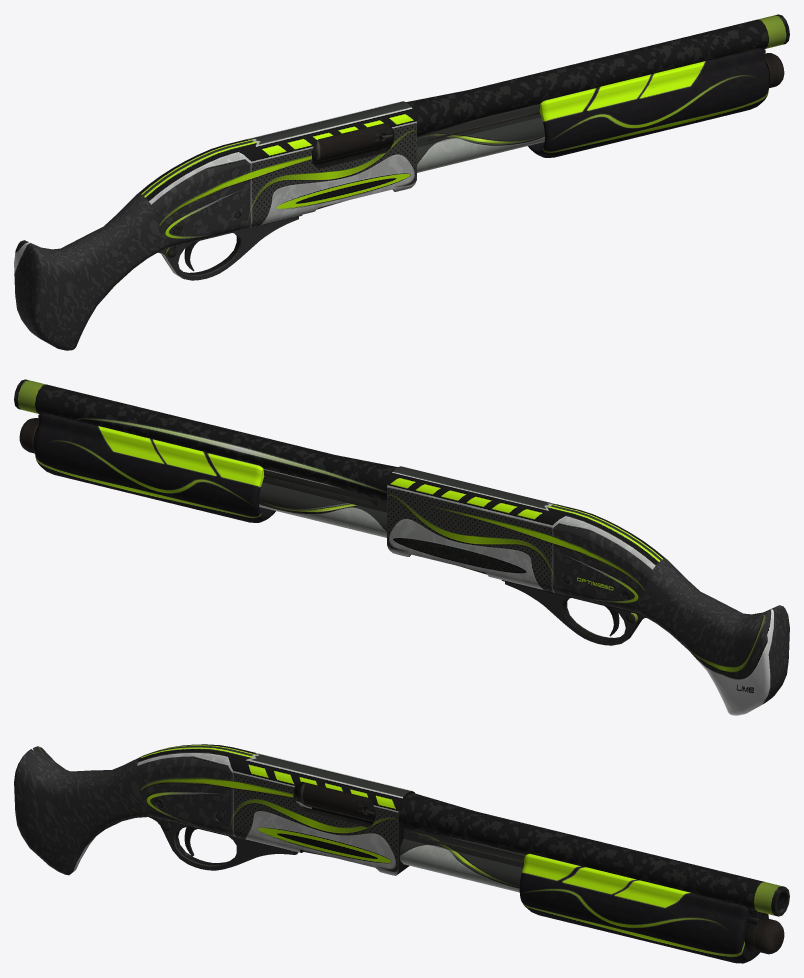
Rendered from w_sawnoffshotgun_lime.glb.
3 renders of one model, top to bottom at view 1: azimuth 30°, elevation 25°; view 2: azimuth 150°, elevation 25°; view 3: azimuth 330°, elevation 25°, orthographic.
Parts seen in each view (by area): view 1: Gun_Root; view 2: Gun_Root; view 3: Gun_Root.
Part boxes in pixels (x1,y1,x2,y2): Gun_Root: (14, 14, 789, 350); Gun_Root: (14, 379, 789, 715); Gun_Root: (14, 744, 789, 963).
Size of the model in its own units: 0.6023 by 0.1235 by 0.041.
Materials: 1 (1 with a texture image).
